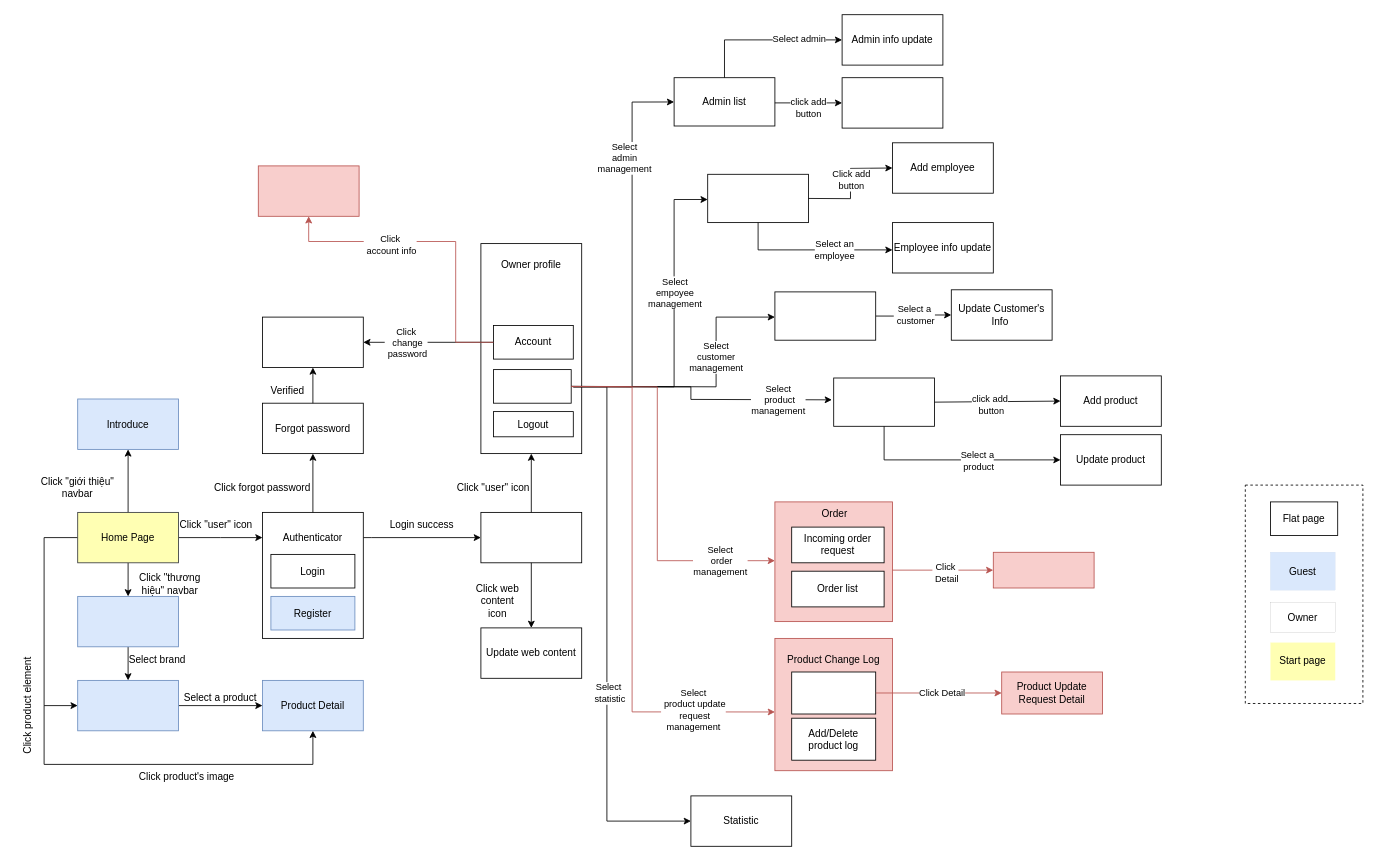
Image size: 1378x861. Some labels were removed from this diagram. The centre of each missing label's shape, as x and y in pixels:
"Add admin" belongs at (x=892, y=102).
"Brand" belongs at (x=127, y=621).
"Change account Info" belongs at (x=308, y=190).
"Change password" belongs at (x=312, y=342).
"Customer List" belongs at (x=825, y=315).
"Employee list" belongs at (x=757, y=198).
"Management" belongs at (x=532, y=386).
"Order detail" belongs at (x=1043, y=569).
"Post Login" belongs at (x=531, y=537).
"Product" belongs at (x=127, y=705).
"Product list" belongs at (x=883, y=401).
"Product Update Request log" belongs at (x=833, y=692).
